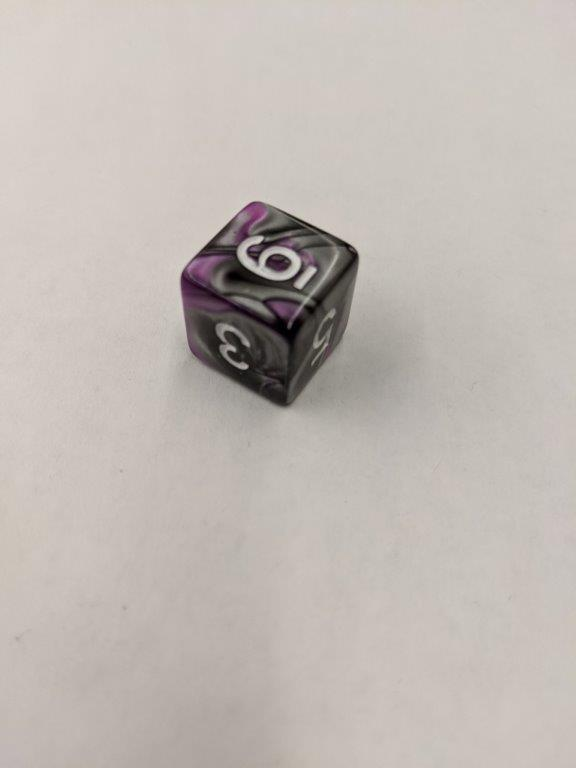d6-6: (180, 199, 361, 407)
